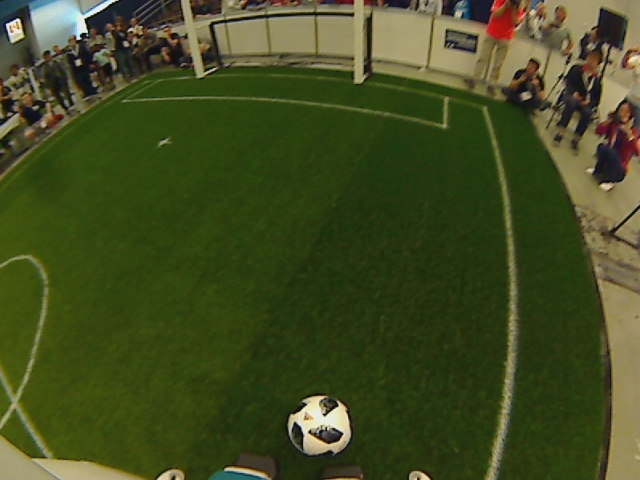ball: (286, 394, 356, 459)
